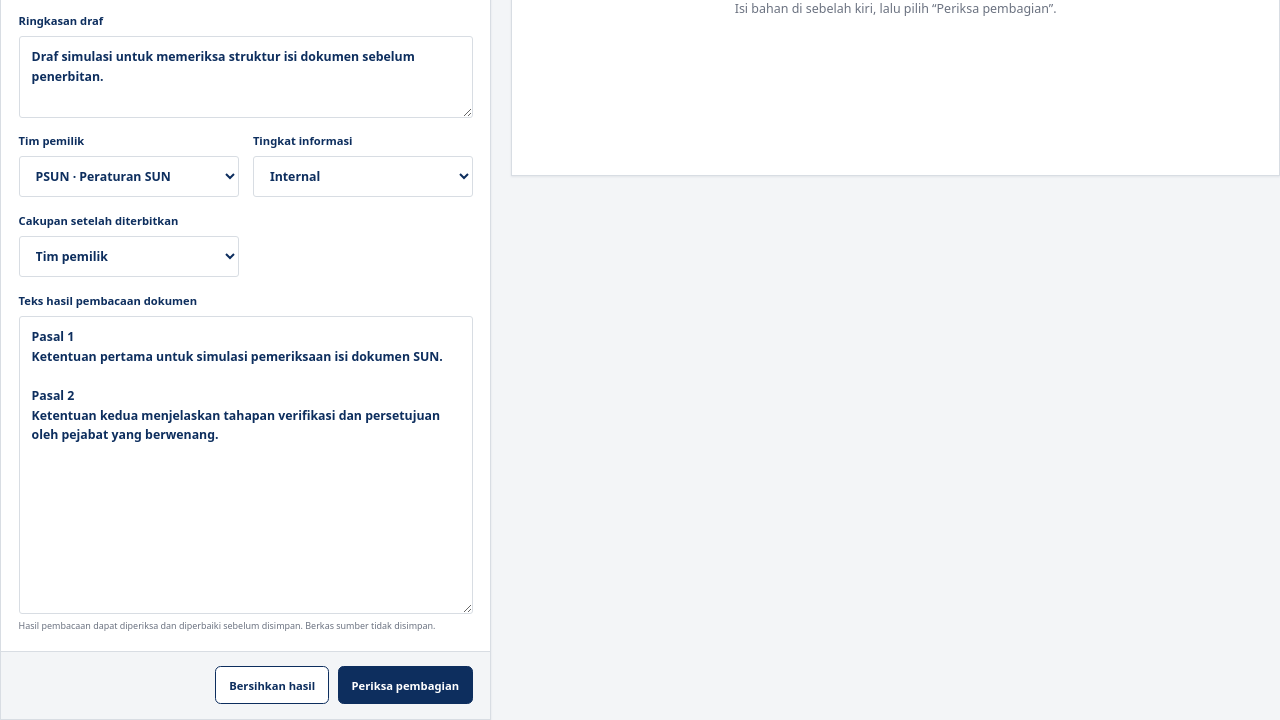
it: ChunkPreviewWorkbench › menyimpan hasil yang sudah diperiksa sebagai draf
(page scrolled)
Step 1. Click the button "Periksa pembagian" → {"x": 405, "y": 685}, box left=338, top=666, right=473, bottom=704
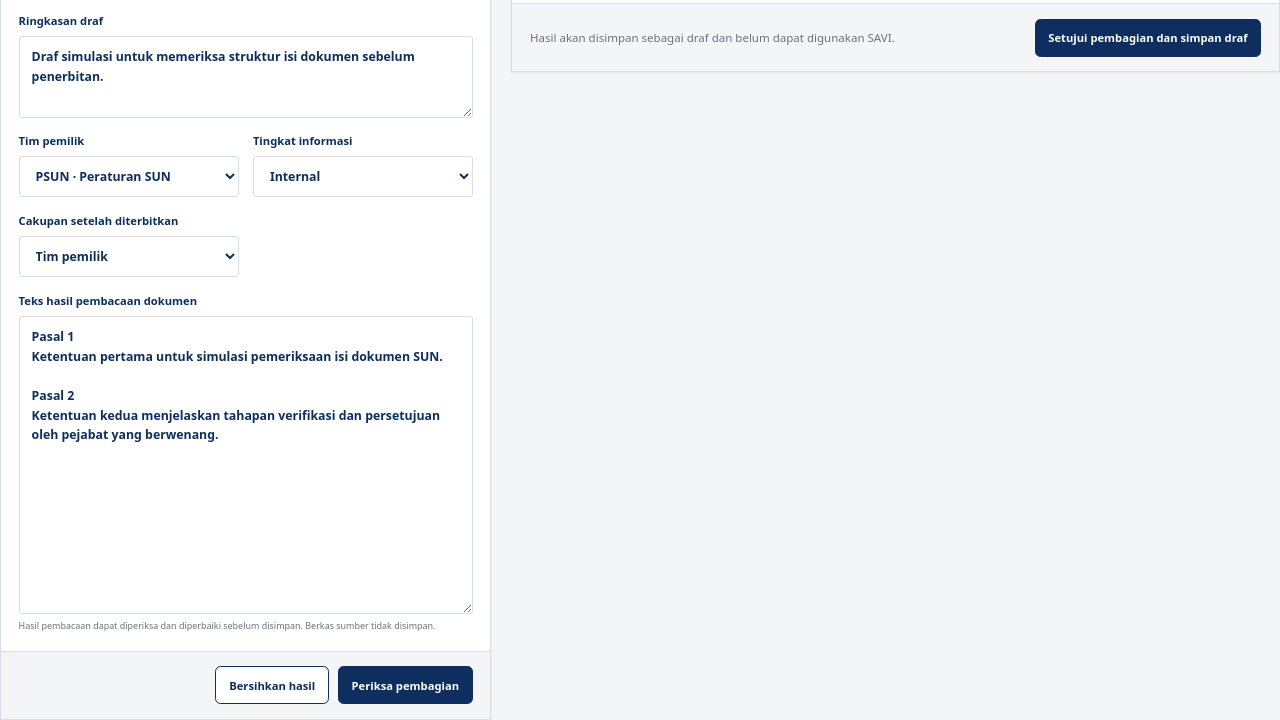
Step 2. Click the button "Setujui pembagian dan simpan draf" → {"x": 1148, "y": 38}, box left=1034, top=19, right=1261, bottom=57
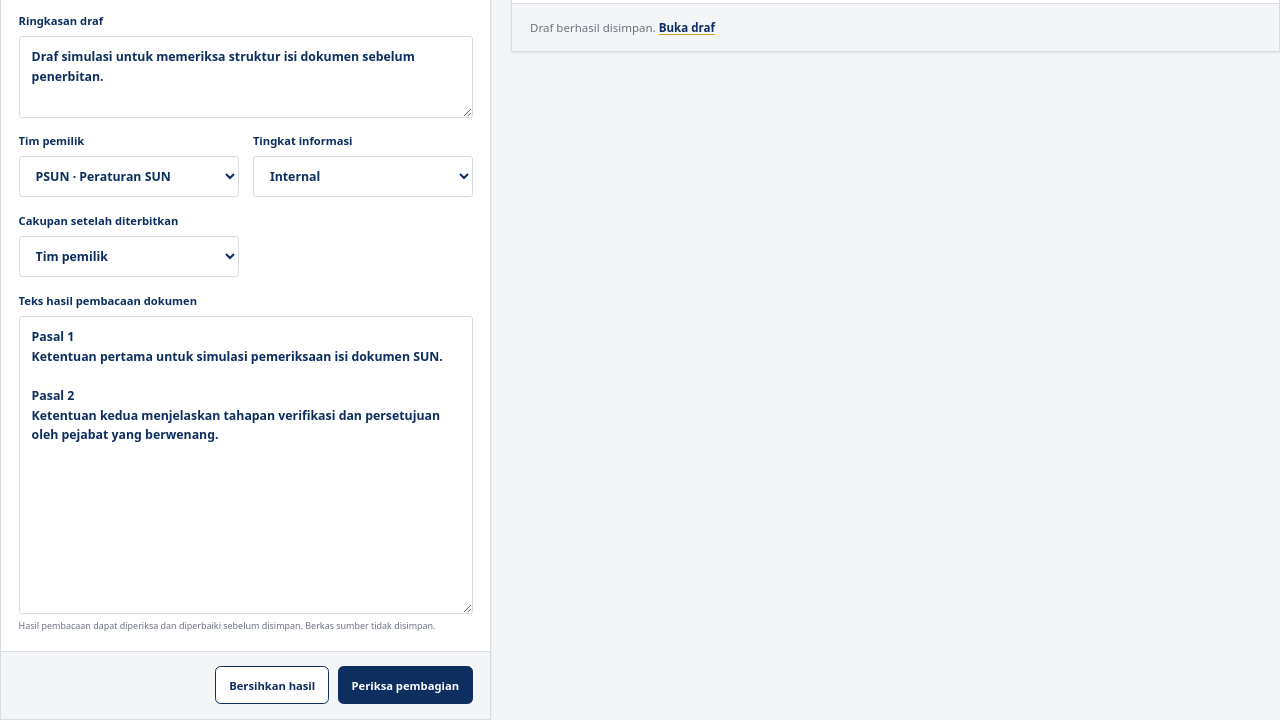
Now the text "Draf berhasil disimpan." is shown, box left=530, top=20, right=659, bottom=35
